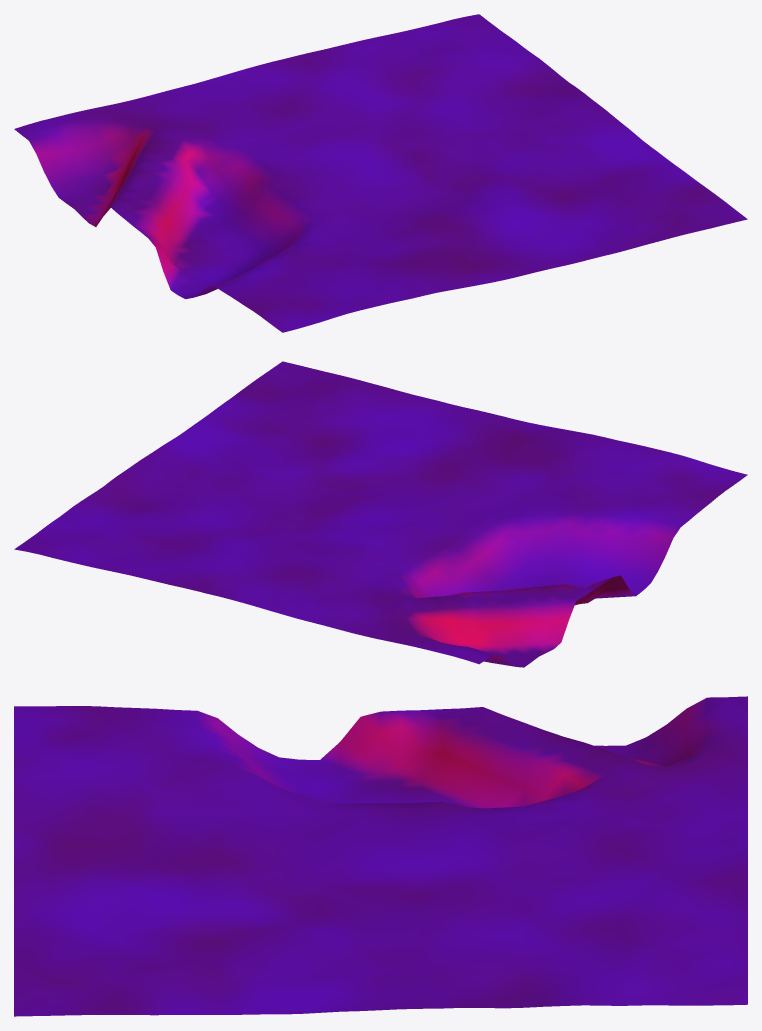
The model's file is ground_21.glb.
3 views of the same model, one above another, from view 1: azimuth 30°, elevation 25°; view 2: azimuth 150°, elevation 25°; view 3: azimuth 270°, elevation 25° (orthographic). The views are drawn at different scales.
Visible parts, largest first — view 1: Ground_21; view 2: Ground_21; view 3: Ground_21.
Part boxes in pixels (left/top/right/bottom): Ground_21: left=14, top=14, right=747, bottom=332; Ground_21: left=14, top=361, right=747, bottom=667; Ground_21: left=14, top=696, right=747, bottom=1016.
Size of what is drawn, in the model's own units: 36 by 3.76 by 36.
